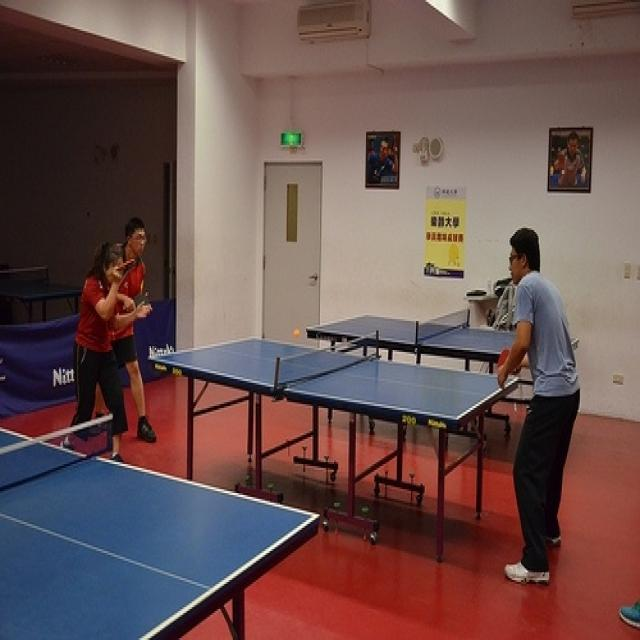TT Net: (0, 417, 122, 491), (270, 333, 385, 391), (409, 306, 475, 348), (0, 265, 49, 293)
TT Racket: (117, 286, 158, 320), (108, 252, 142, 279), (489, 343, 517, 373)
TT Table: (0, 427, 304, 639), (157, 311, 517, 427), (306, 306, 576, 366), (0, 273, 81, 312)
